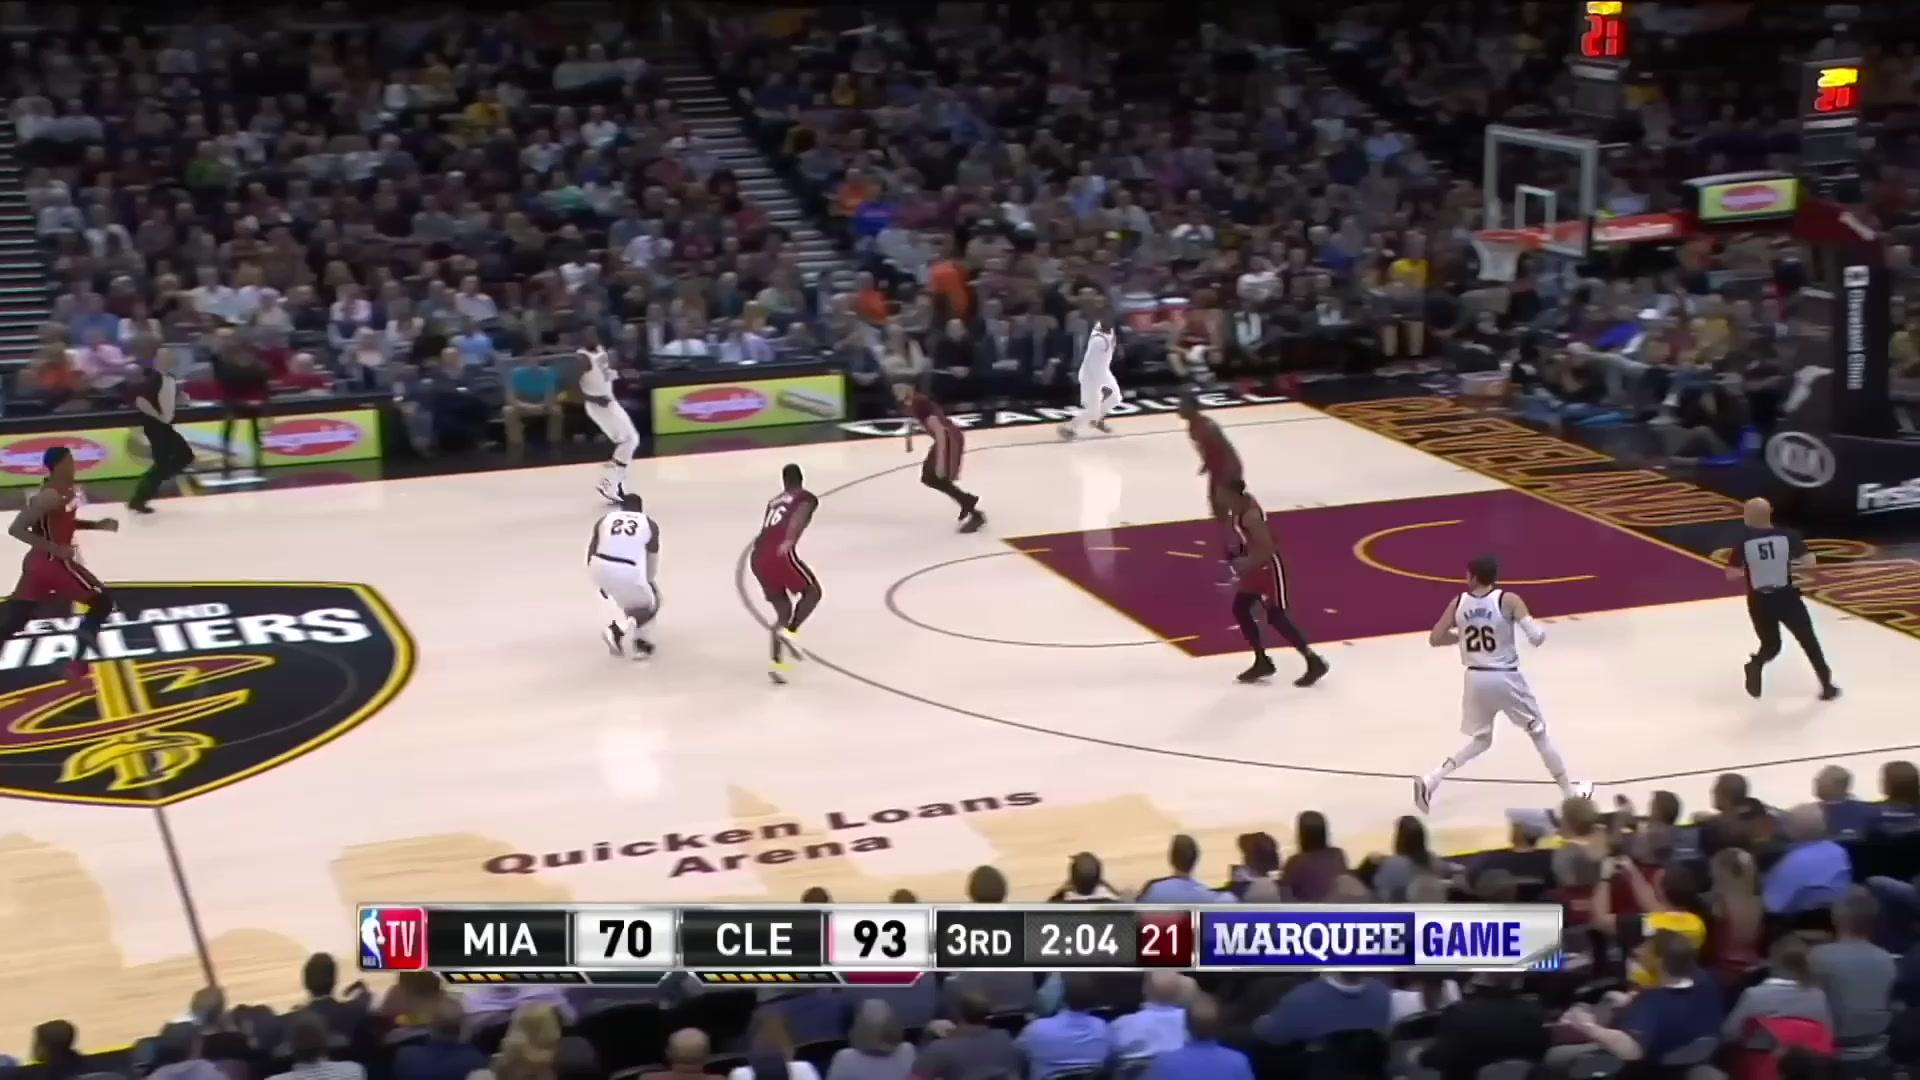no_foul: (560, 450, 833, 686)
